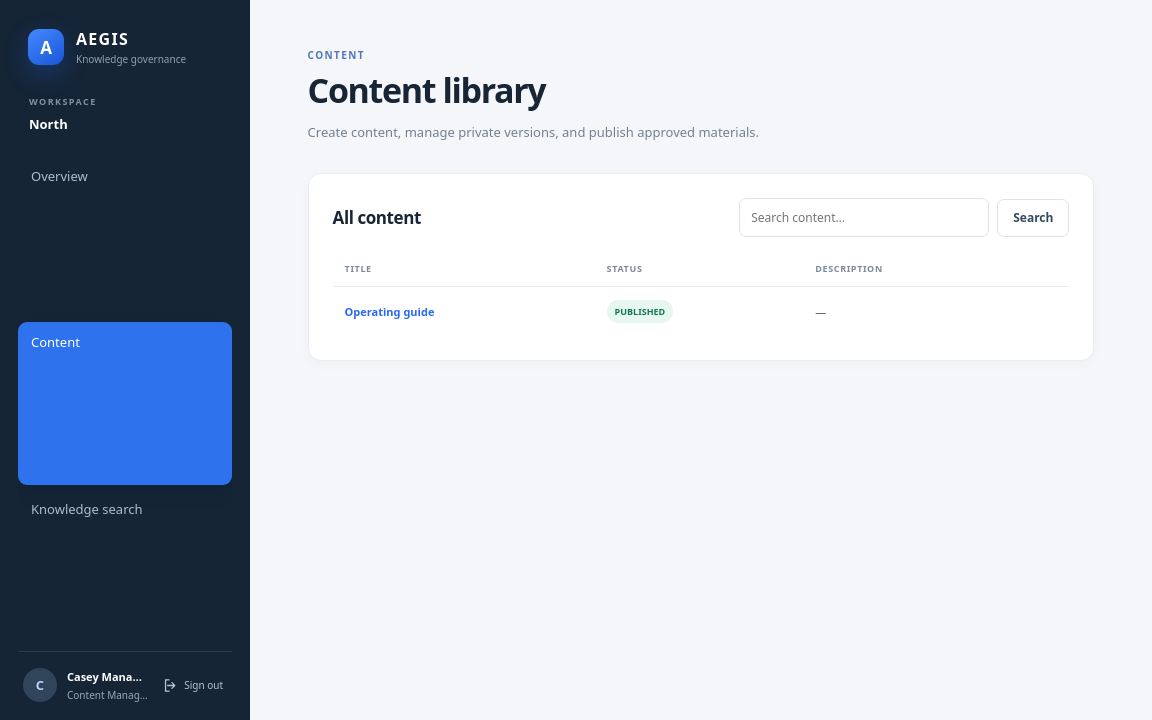
Test: authenticated content workflow › opens the protected preview route only for permitted content managers
Click the button "Operating guide": (390, 312) [345, 304, 434, 319]
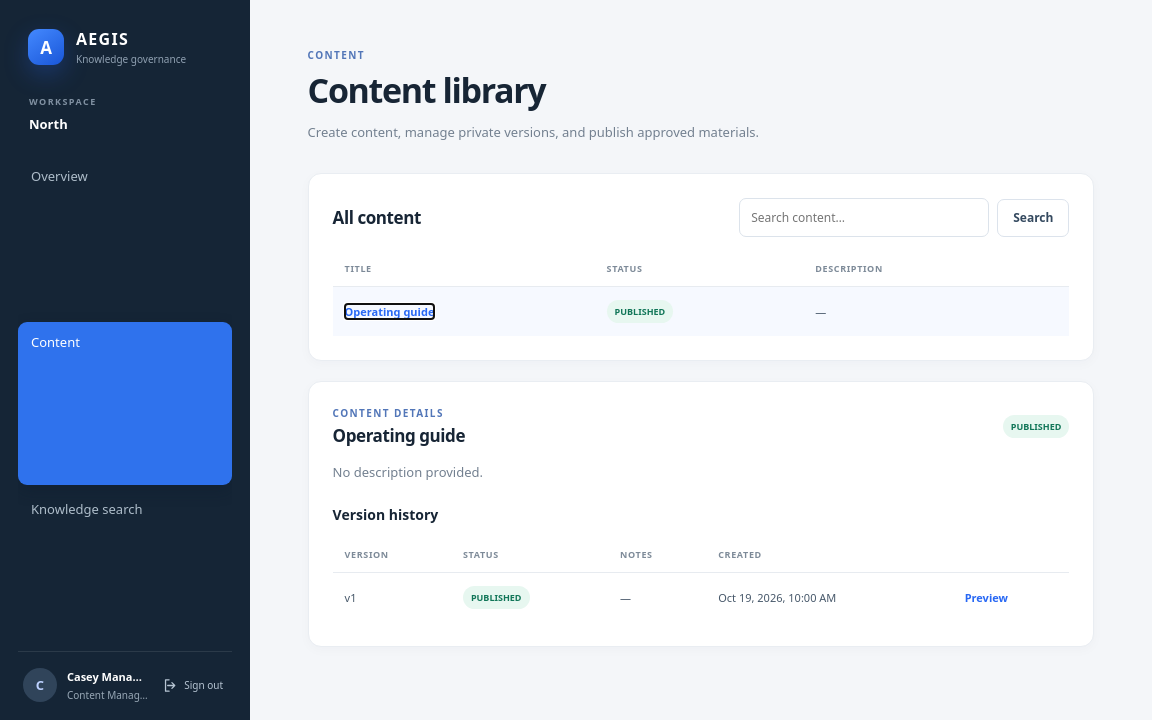
Click the button "Preview": (986, 598) [965, 590, 1008, 605]
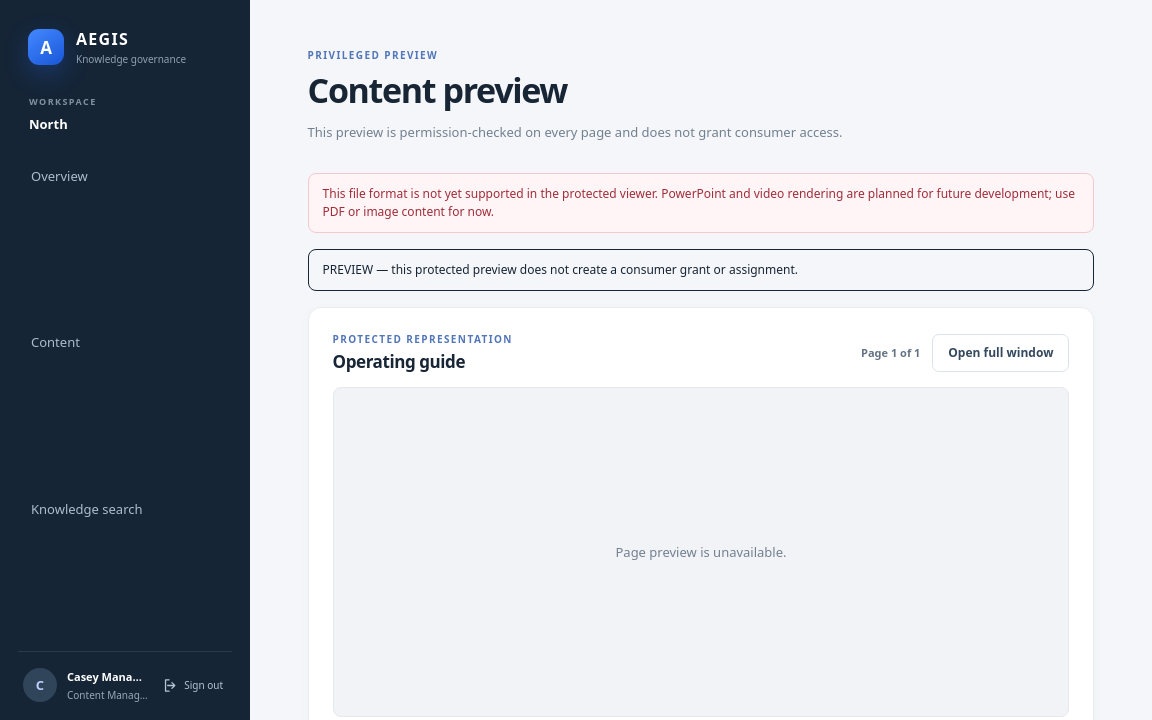
Expected: the text "PREVIEW — this protected preview" is shown, [323, 261, 798, 278]
Expected: the message shows "This file format is not yet supported in the protected viewer.", [323, 185, 1075, 220]
